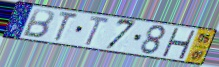7: (103, 17, 139, 51)
8: (139, 24, 167, 56)
B: (20, 8, 55, 40)
H: (161, 27, 198, 60)
T: (83, 14, 112, 47), (53, 10, 80, 43)
